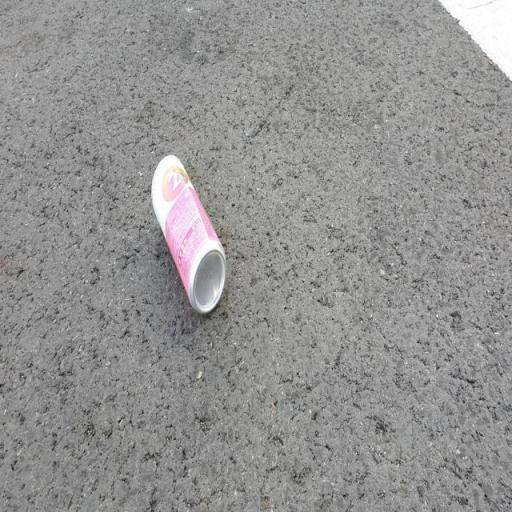metal: (142, 128, 244, 351)
